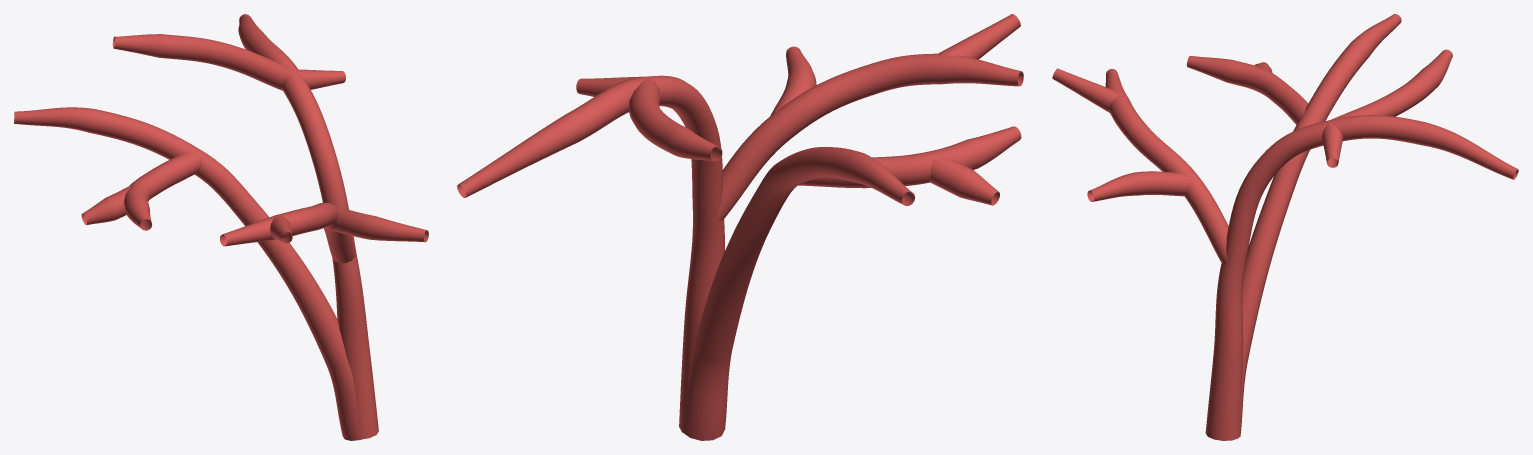
3 views of the same model, side by side, from view 1: azimuth 30°, elevation 25°; view 2: azimuth 150°, elevation 25°; view 3: azimuth 270°, elevation 25° (orthographic). The views are drawn at different scales.
Visible parts, largest first — view 1: 右肺下叶上段动脉; view 2: 右肺下叶上段动脉; view 3: 右肺下叶上段动脉.
Part boxes in pixels (bbox=[...]): 右肺下叶上段动脉: bbox=[14, 14, 428, 440]; 右肺下叶上段动脉: bbox=[457, 14, 1023, 440]; 右肺下叶上段动脉: bbox=[1052, 14, 1518, 440].
Bounding box in the file's own units: 0.0833 × 0.0912 × 0.1172.
